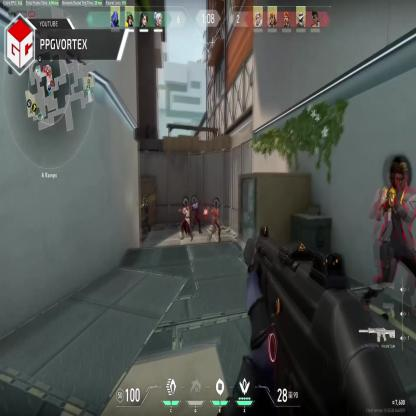enemy: (361, 158, 416, 319), (207, 198, 220, 246), (180, 196, 191, 240), (190, 195, 200, 235), (140, 195, 150, 233)
enemy_head: (395, 167, 408, 189), (214, 198, 219, 209), (191, 196, 197, 205), (183, 198, 188, 207), (142, 196, 147, 204)
